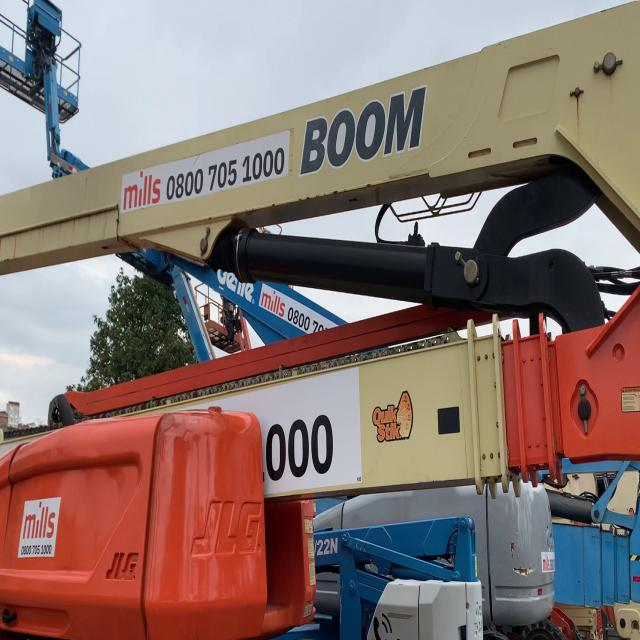Adesivo Longo: (118, 126, 292, 215)
Adesivos: (16, 494, 63, 559)
